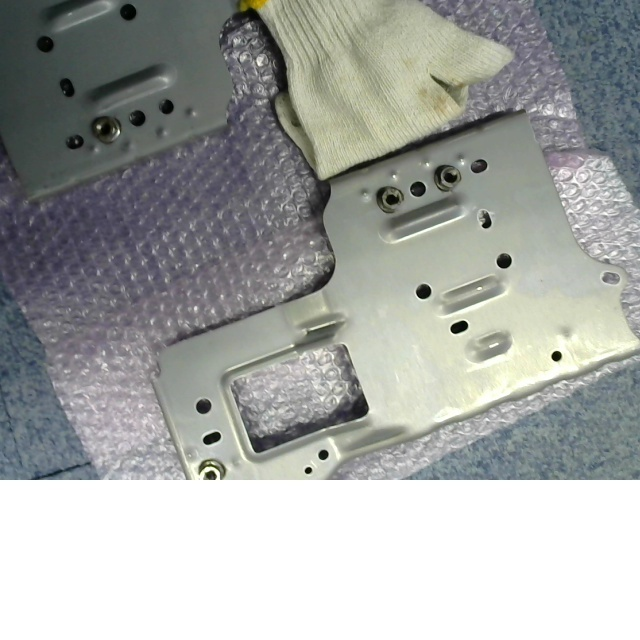dog: (92, 115, 121, 144), (434, 164, 462, 193), (376, 186, 404, 214)
